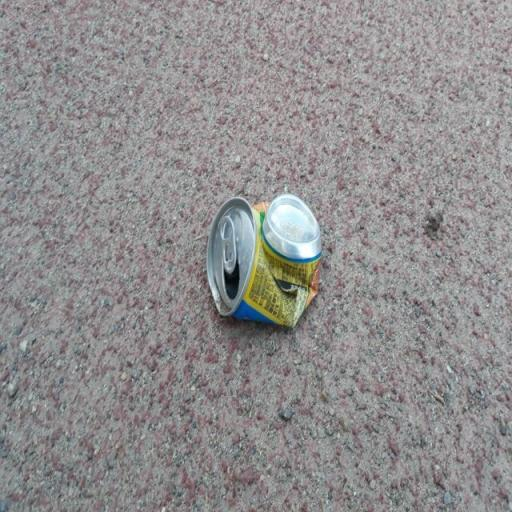metal: (194, 169, 350, 378)
